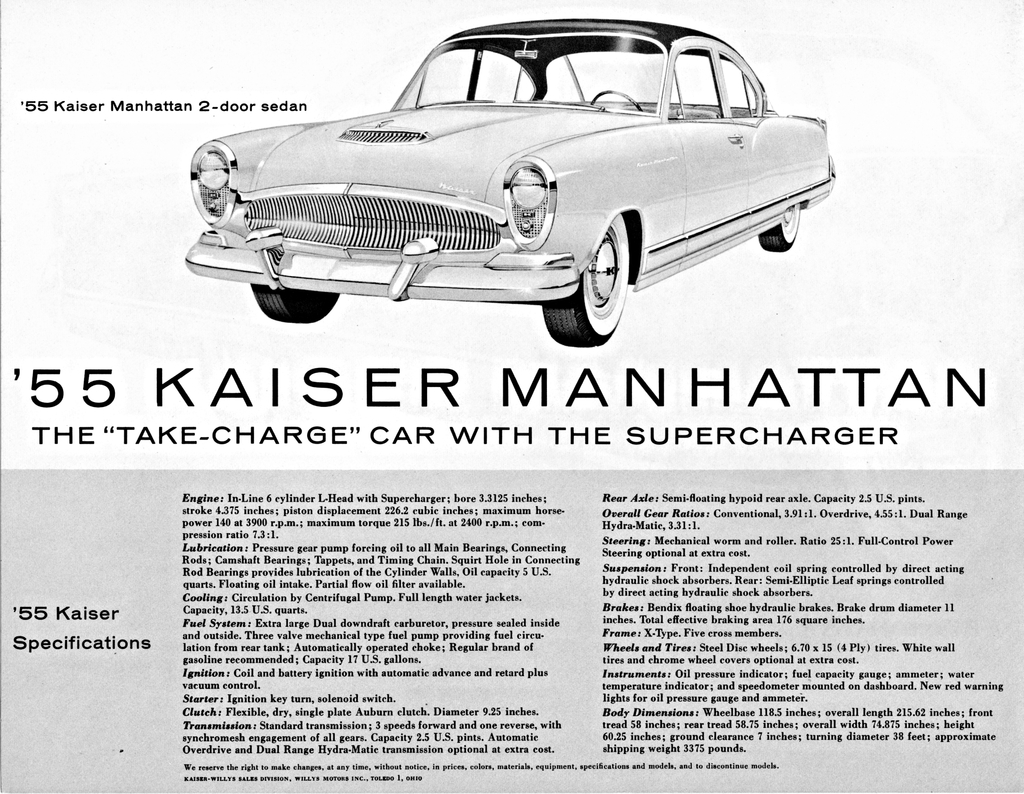Car: (181, 18, 838, 350)
